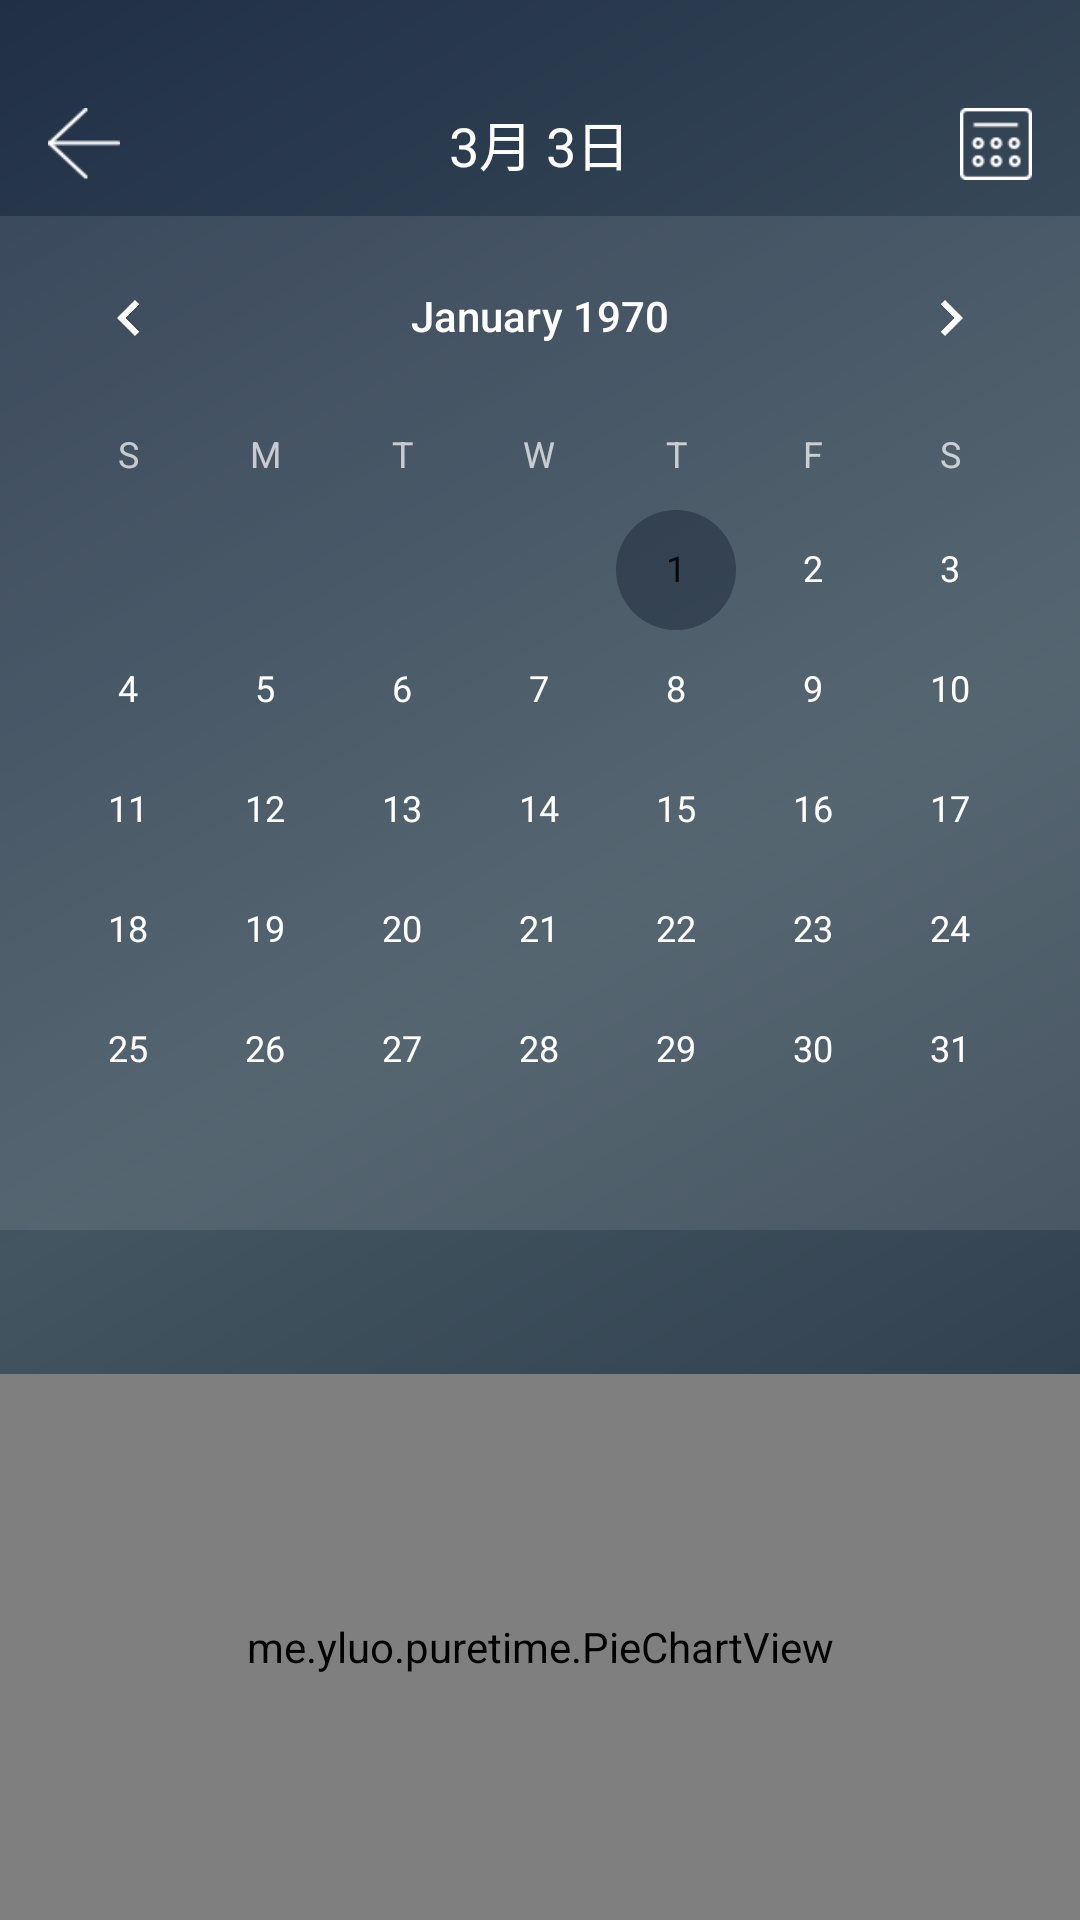

Named icons in this screenshot (1080x1920) and their bounding boxes, (x1, y1, x2, y2):
back: (48, 108, 120, 179)
calendar: (960, 108, 1032, 180)
